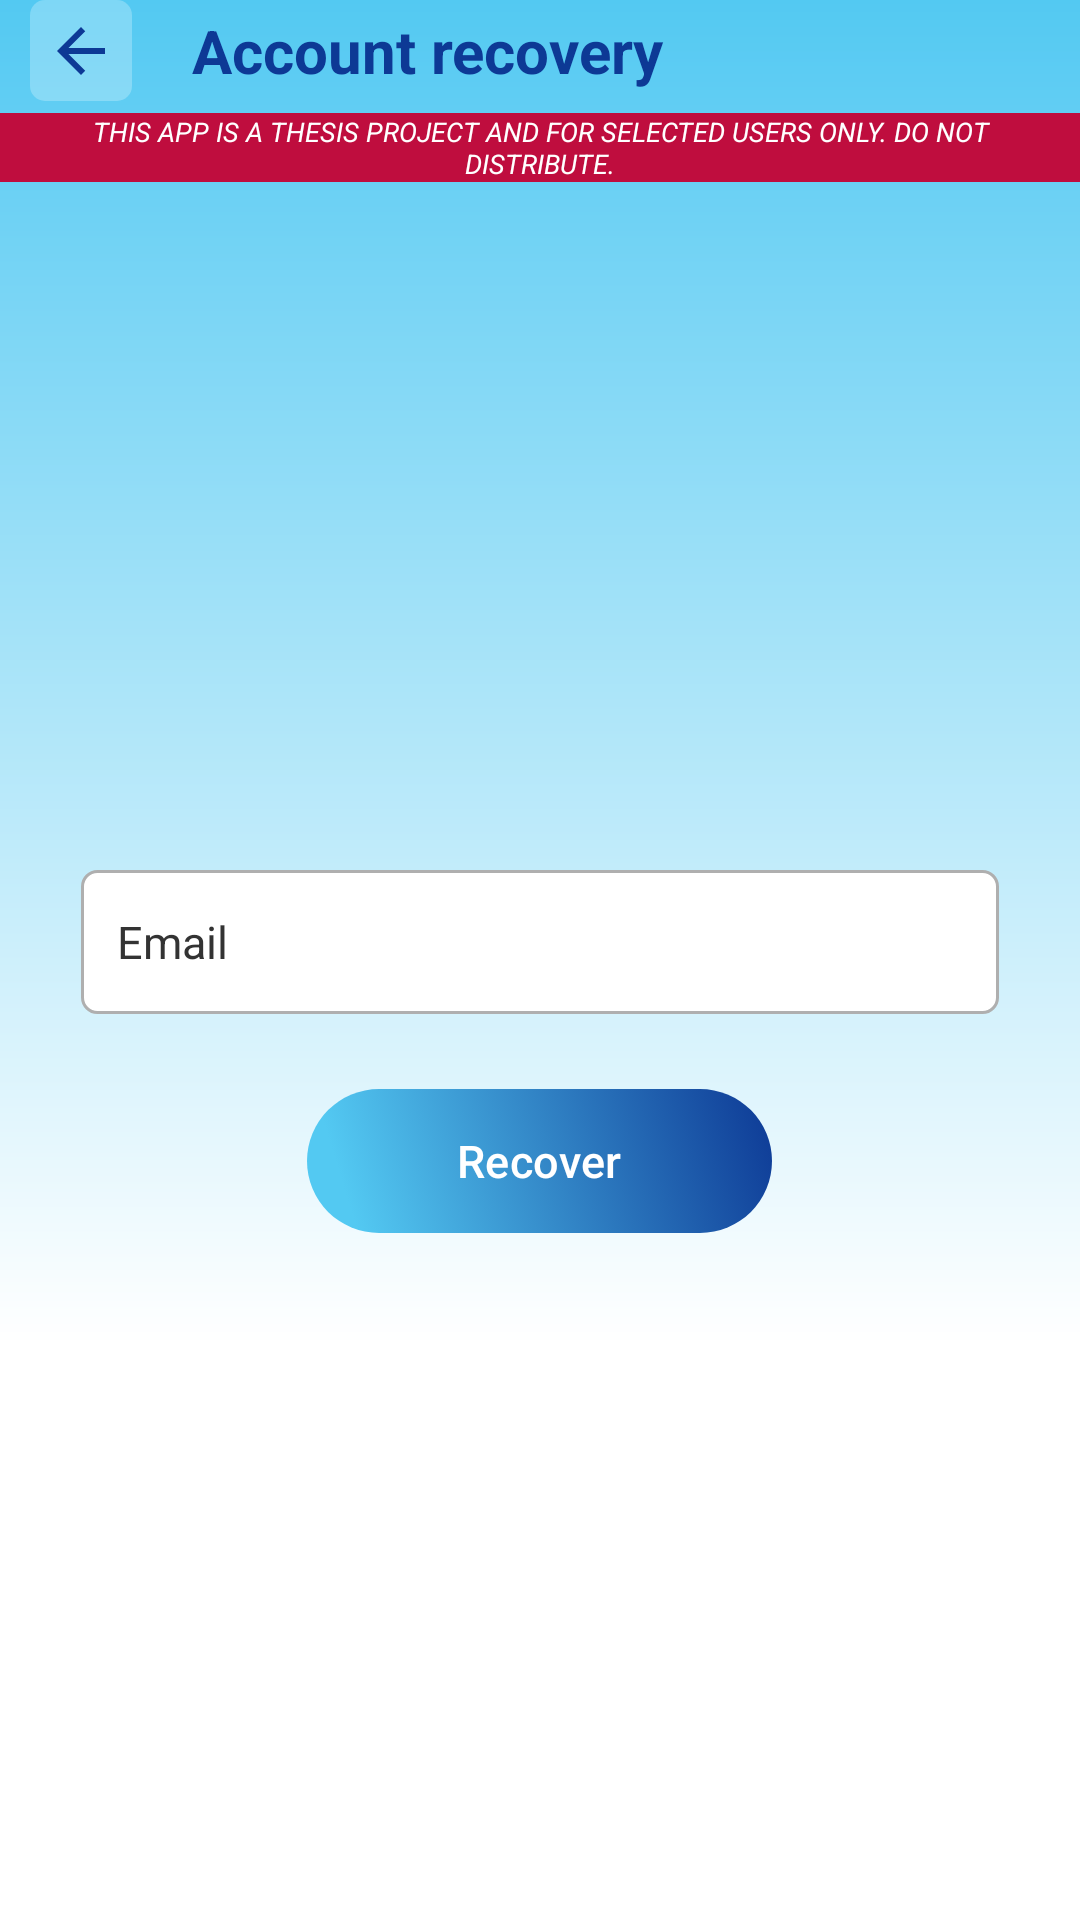

Screen size 1080px×1920px. Icon name, then its box in pixels as (x1, y1, x2, y2):
Back: (30, 0, 132, 101)
